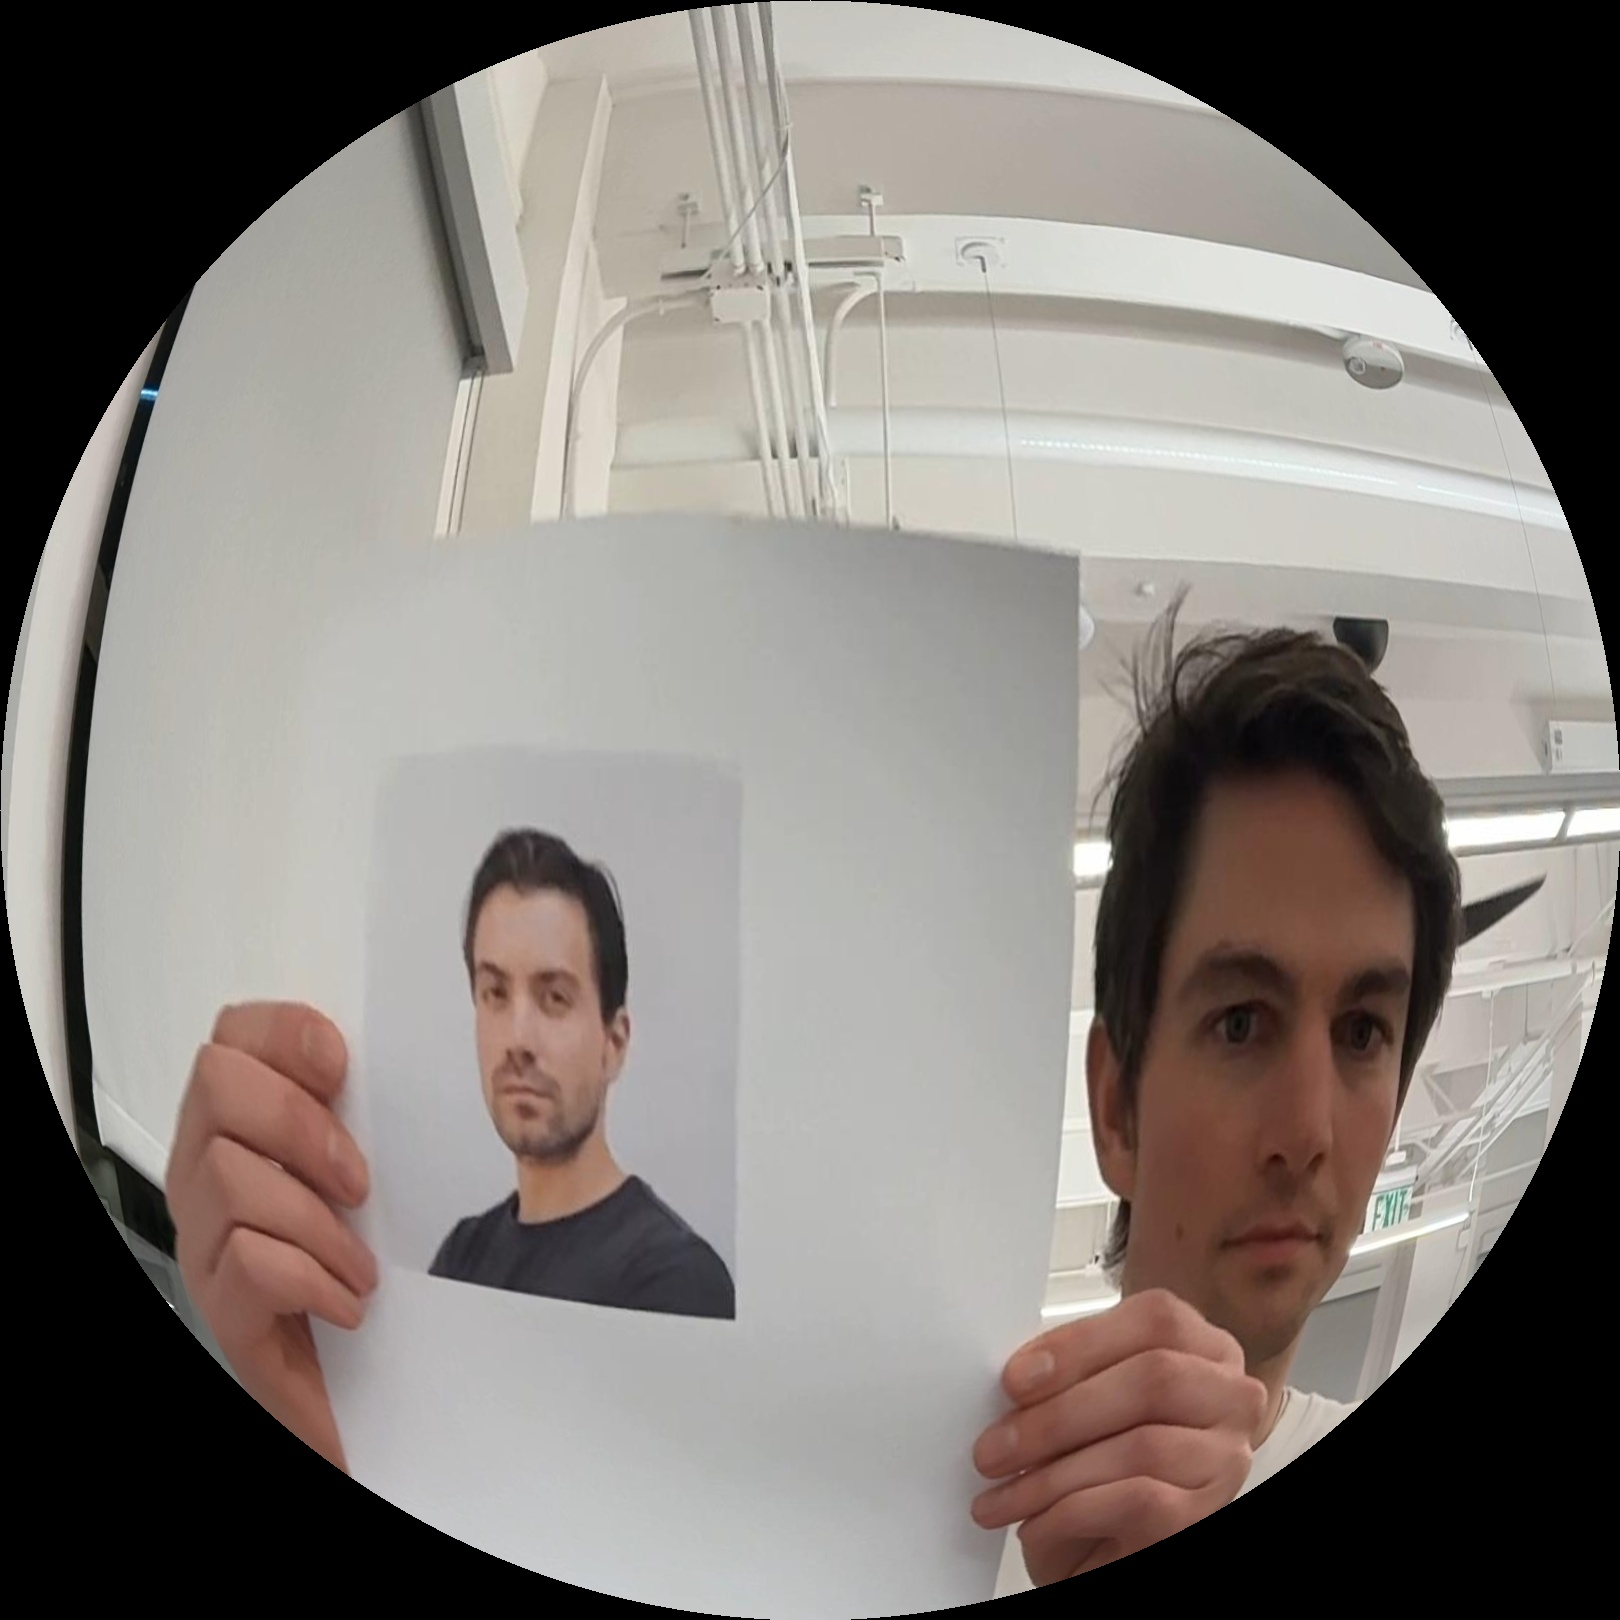face: (1083, 715, 1424, 1400), (455, 828, 641, 1179)
